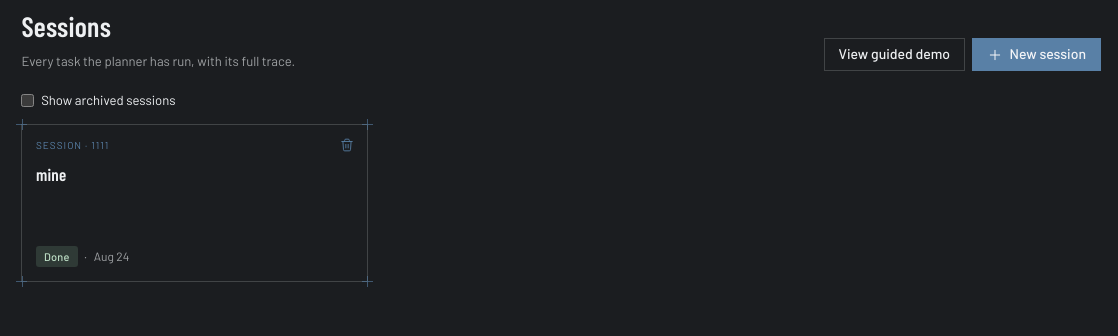
it: SessionListPage › shows an error and keeps the card when archiving fails
Expected: the heading "mine" is shown, [36,164,66,184]
Click the button named "Archive session 1111" at (347, 145), box [334,132,360,158]
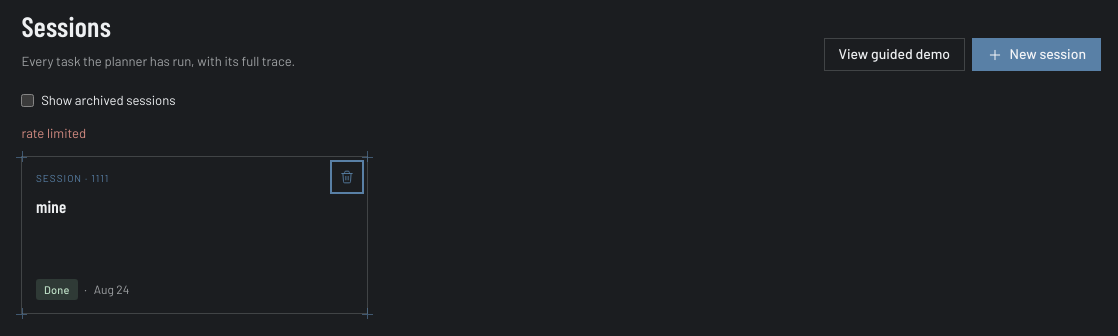
Expected: the heading "mine" is shown, [36,196,66,216]
Now the message reads "rate limited", box [21,125,86,141]
